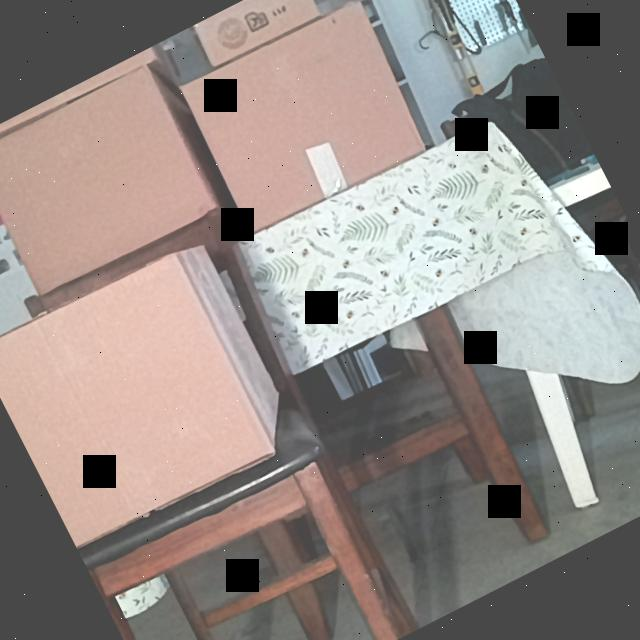box: (0, 251, 276, 548), (176, 0, 428, 235), (0, 64, 219, 298), (0, 45, 160, 150), (191, 0, 321, 68)
